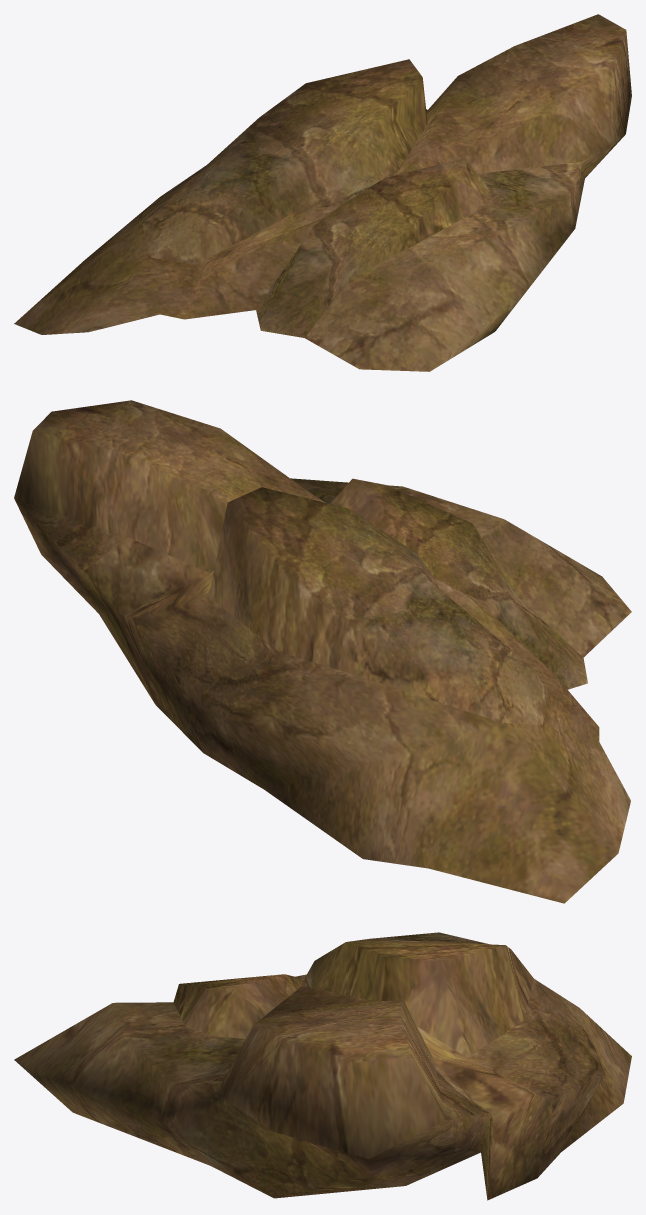
Rendered from S_Rock_Yellow008.FBX.
3 renders of one model, top to bottom at view 1: azimuth 30°, elevation 25°; view 2: azimuth 150°, elevation 25°; view 3: azimuth 270°, elevation 25°, orthographic. The views are drawn at different scales.
Visible parts, largest first — view 1: S_Rock_Yellow008; view 2: S_Rock_Yellow008; view 3: S_Rock_Yellow008.
Boxes of the visible parts, left/top/right/bottom form: S_Rock_Yellow008: left=14, top=14, right=631, bottom=371; S_Rock_Yellow008: left=14, top=400, right=631, bottom=903; S_Rock_Yellow008: left=14, top=932, right=631, bottom=1200.
Bounding box in the file's own units: 911 × 715 × 368.
